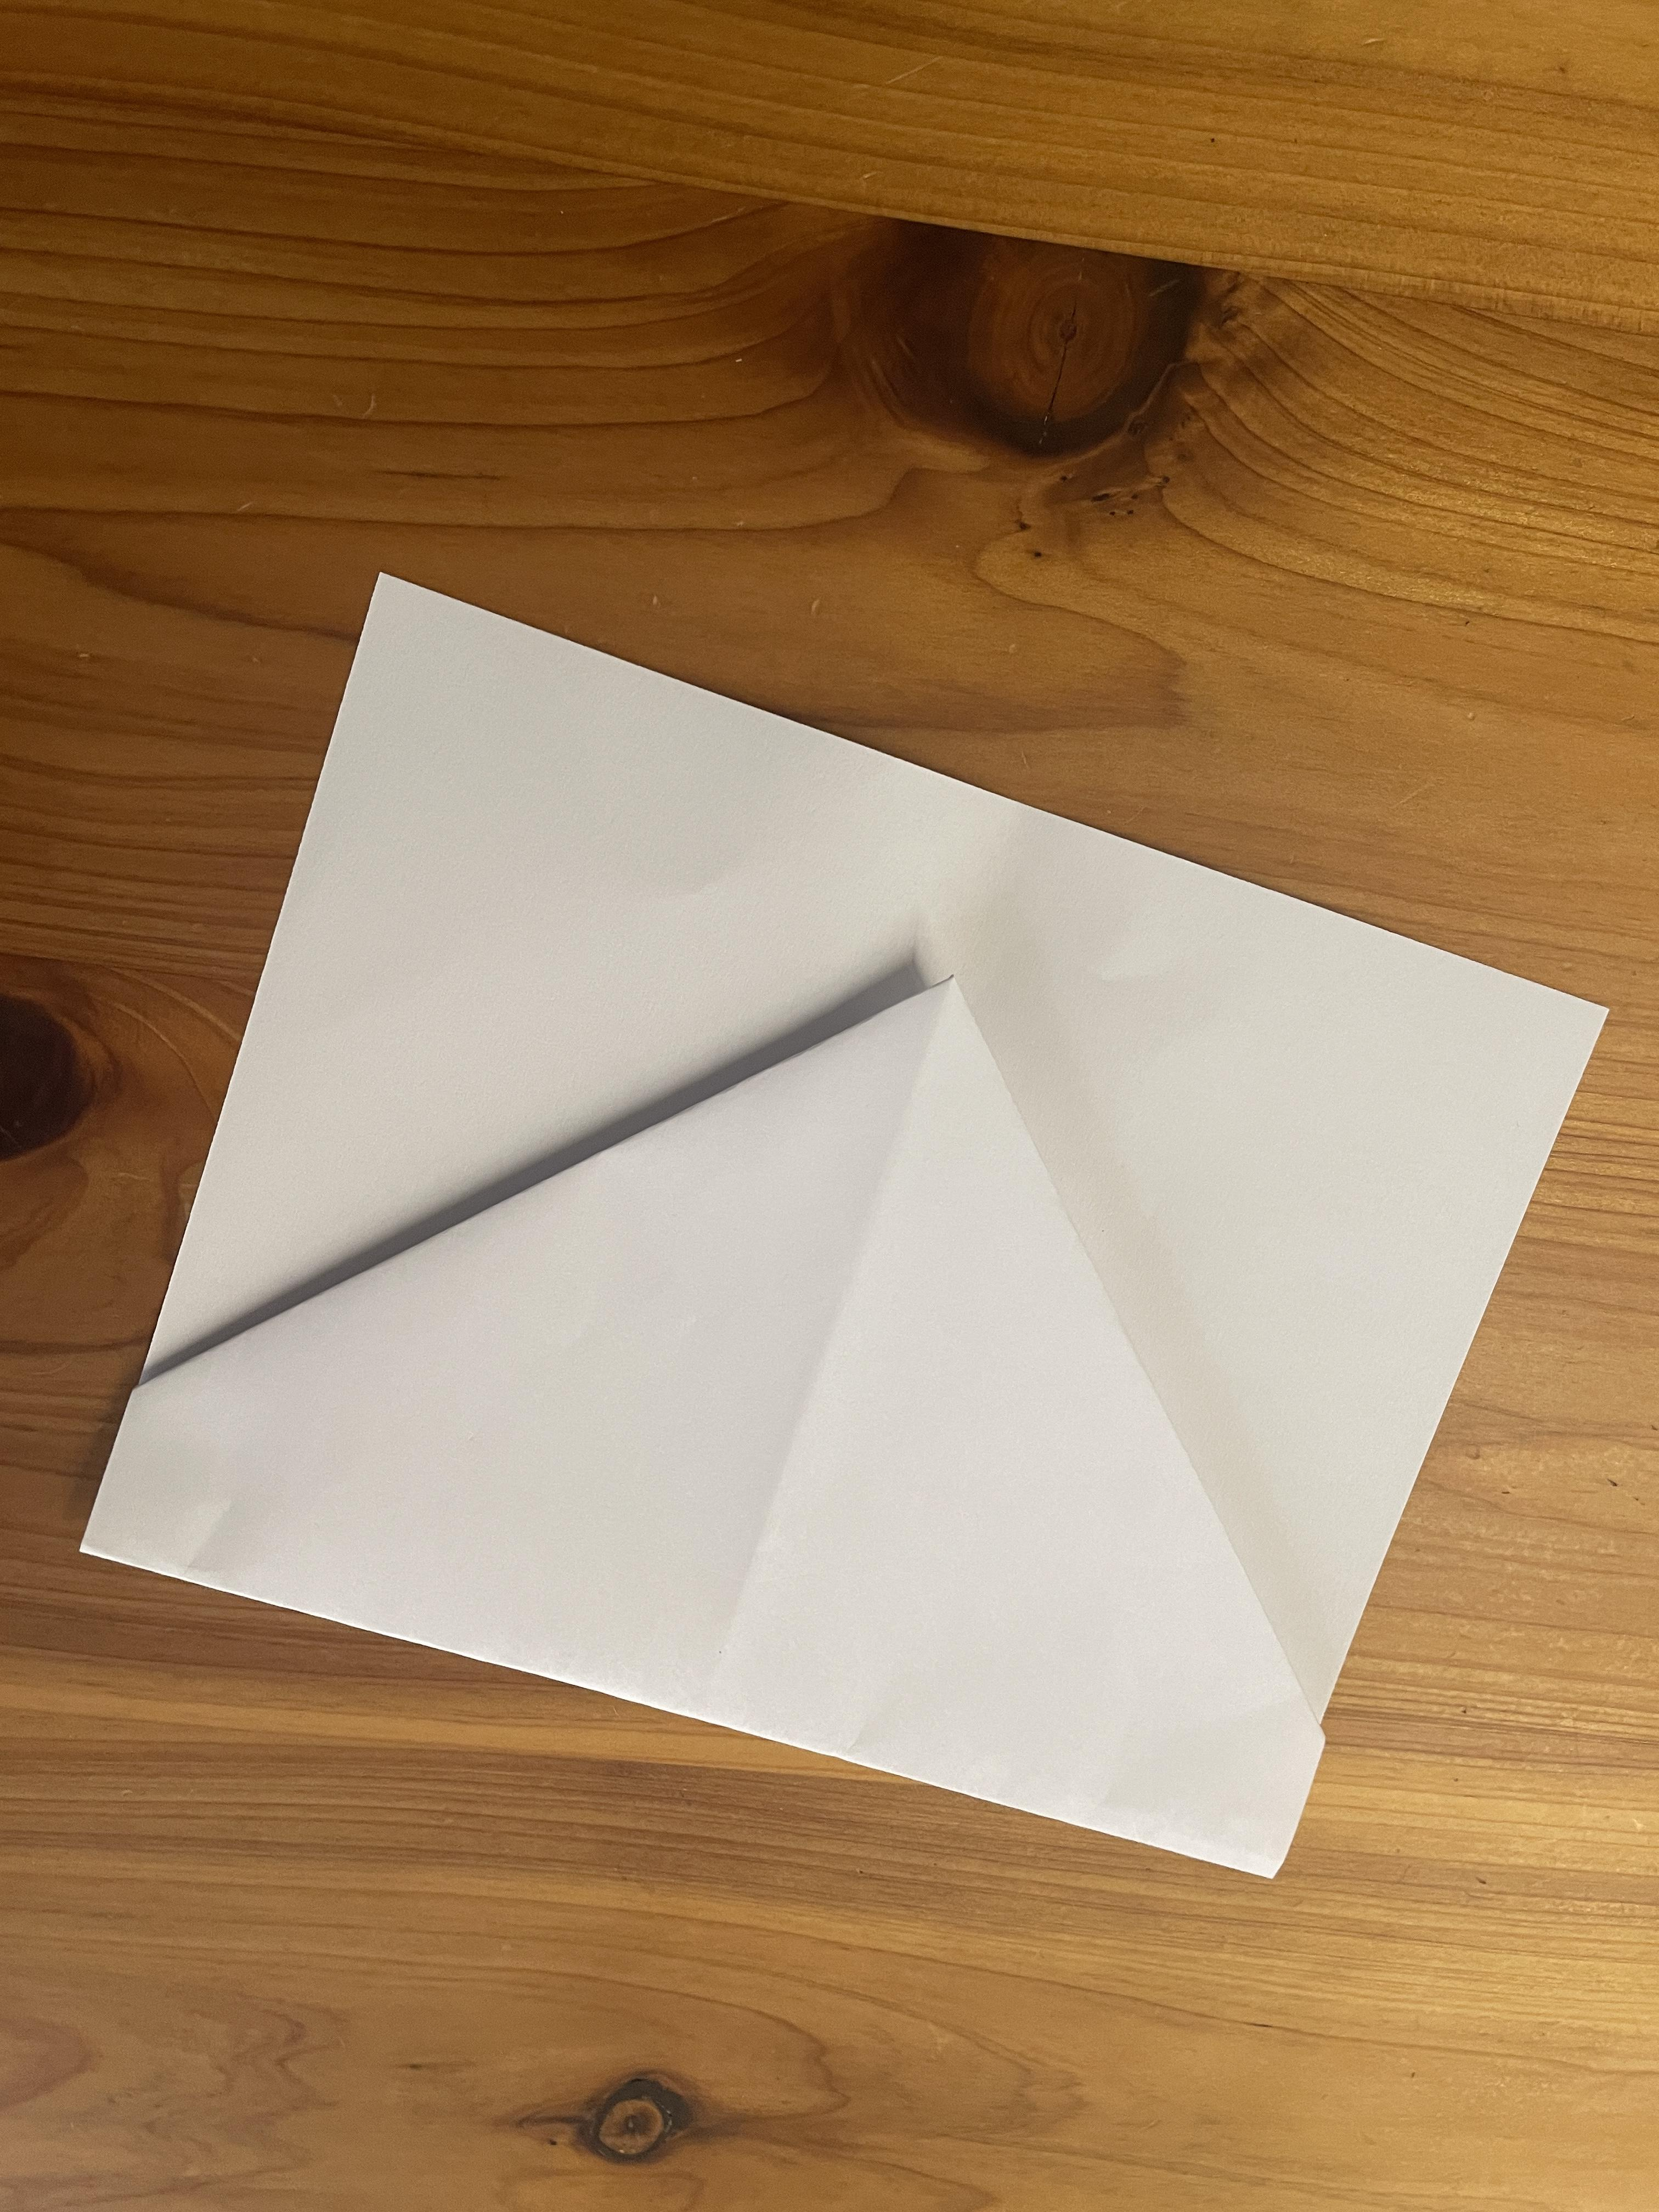shape_1: (38, 395, 1659, 2078)
